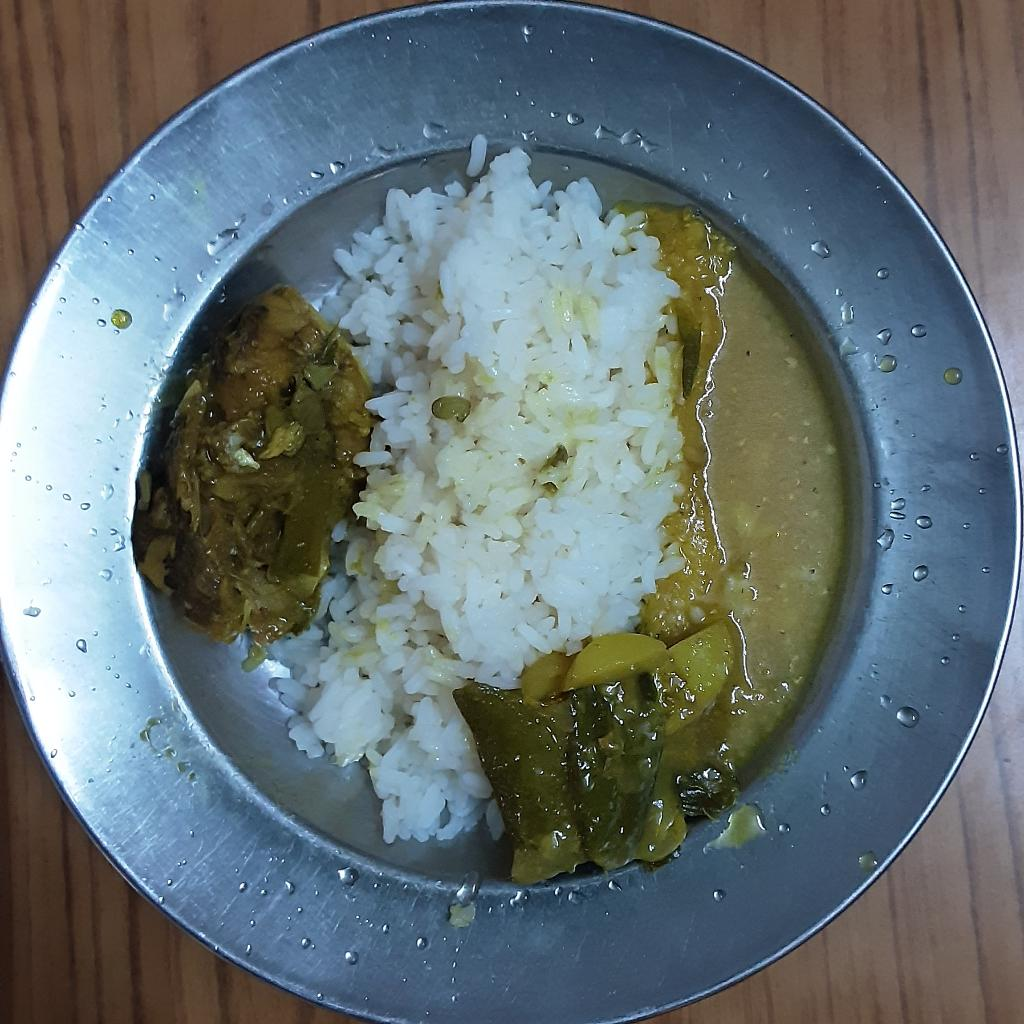daal: (651, 204, 859, 851)
fish: (139, 288, 369, 639)
potato: (521, 623, 733, 745)
rice: (264, 128, 684, 848)
shim: (457, 685, 667, 890)
